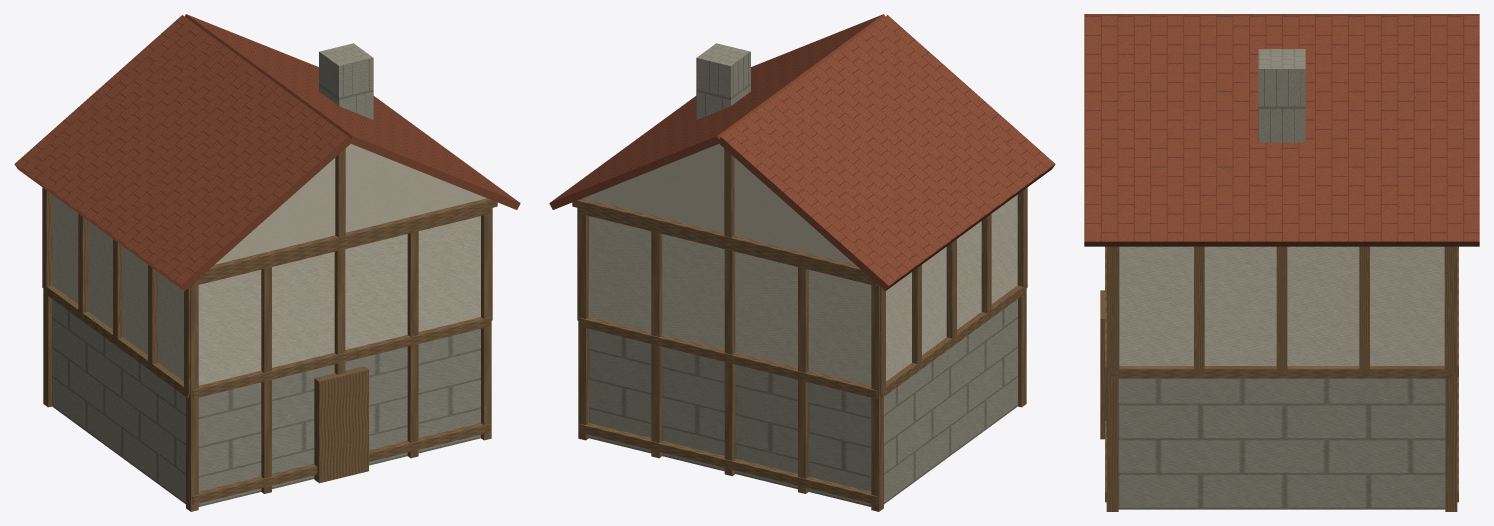
The picture shows the model from 3 angles, left to right: view 1: azimuth 30°, elevation 25°; view 2: azimuth 150°, elevation 25°; view 3: azimuth 270°, elevation 25°; orthographic projection. The views are drawn at different scales.
Parts seen in each view (by area): view 1: house-roof, house-plaster, house-stone, house-wood; view 2: house-roof, house-plaster, house-stone, house-wood; view 3: house-roof, house-stone, house-plaster, house-wood.
Boxes of the visible parts, x1,y1,x2,y2 form: house-roof: (14,14,520,291); house-plaster: (52,144,486,385); house-stone: (52,43,480,506); house-wood: (42,148,497,511); house-roof: (549,14,1055,291); house-plaster: (583,144,1017,385); house-stone: (589,43,1017,506); house-wood: (572,148,1027,511); house-roof: (1084,14,1479,246); house-stone: (1118,49,1445,509); house-plaster: (1119,246,1444,365); house-wood: (1100,246,1458,511).
Bounding box in the file's own units: 7.88 × 7.7 × 6.7.
4 materials, 4 textured.
